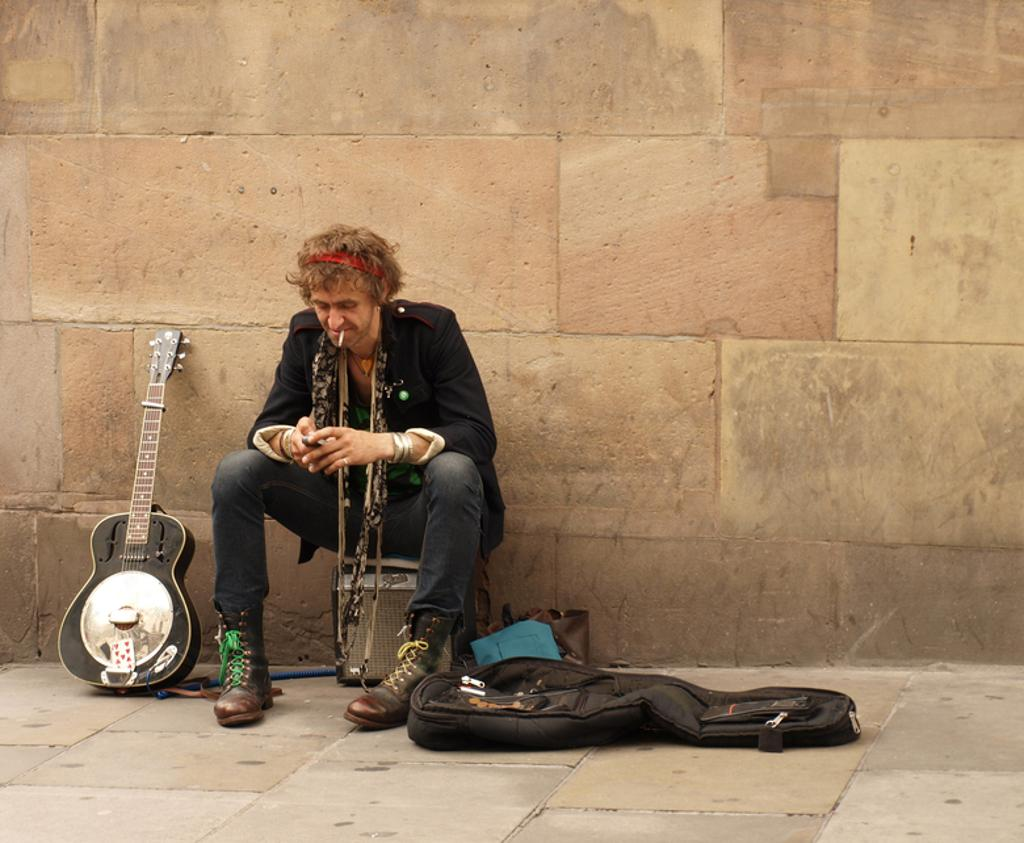face: (306, 276, 374, 354)
